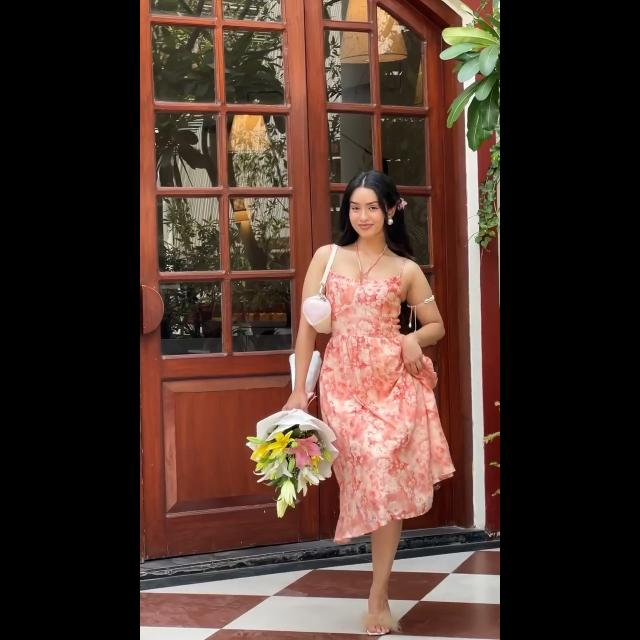dress: (331, 243, 442, 545)
ear ring: (385, 217, 395, 227)
handbag: (306, 248, 342, 338)
shoes: (364, 608, 392, 630)
